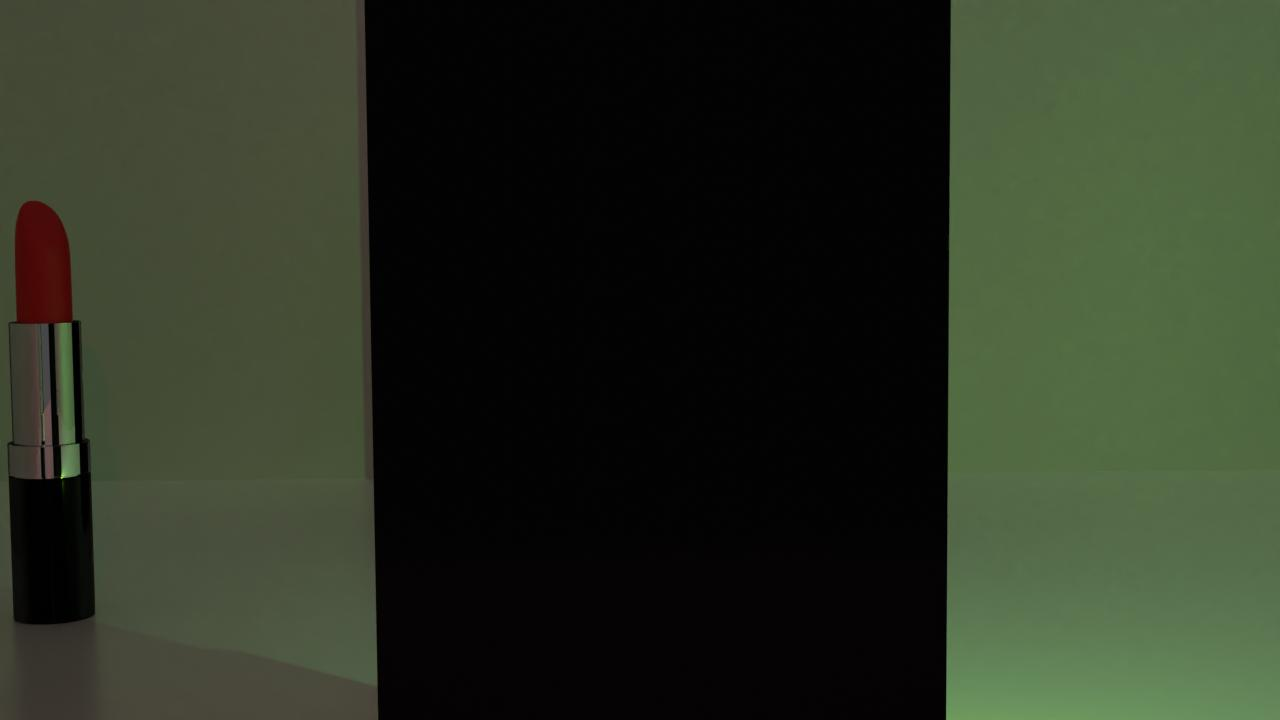CLASSIFIER_NAME: (5, 195, 97, 624)
